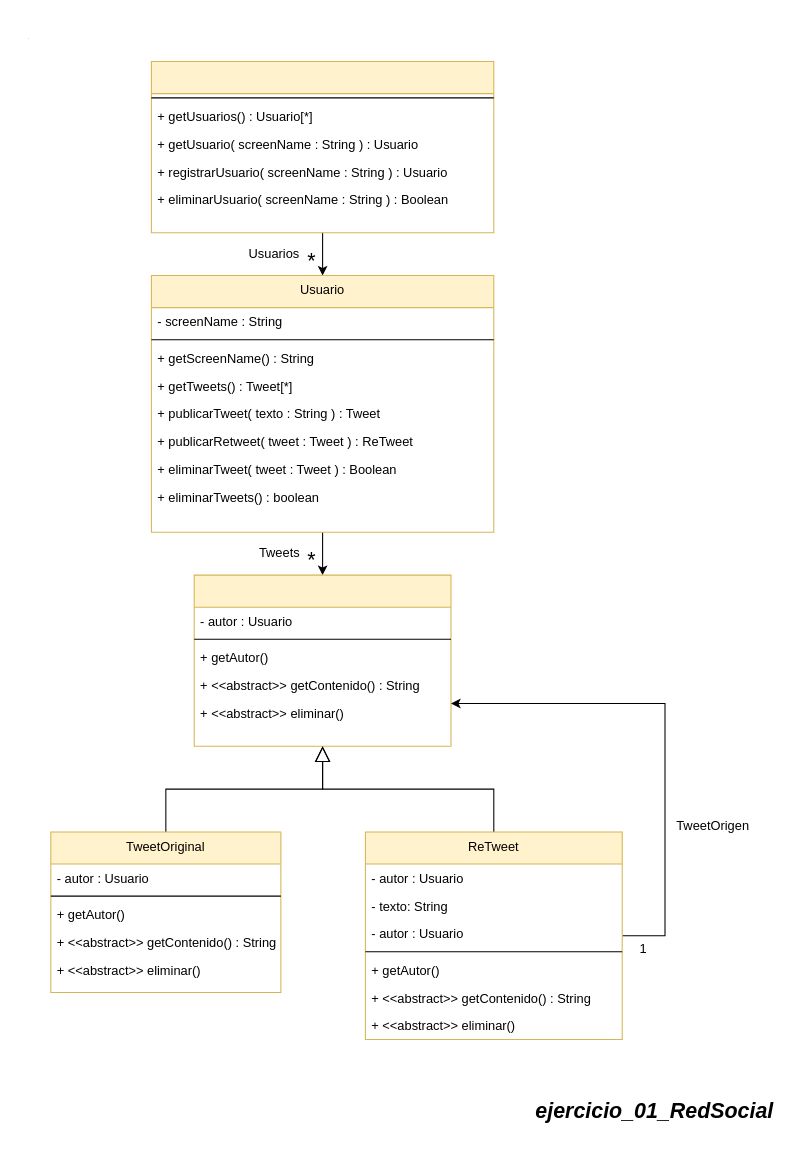
This 806x1149 diagram has some shape labels left out. The shapes that lost their labels are listed below. From the top down, each one's box as (x1, y1, x2, y2) in pixels, then its label:
(150, 60, 494, 233): Twitter
(193, 574, 451, 746): Tweet
